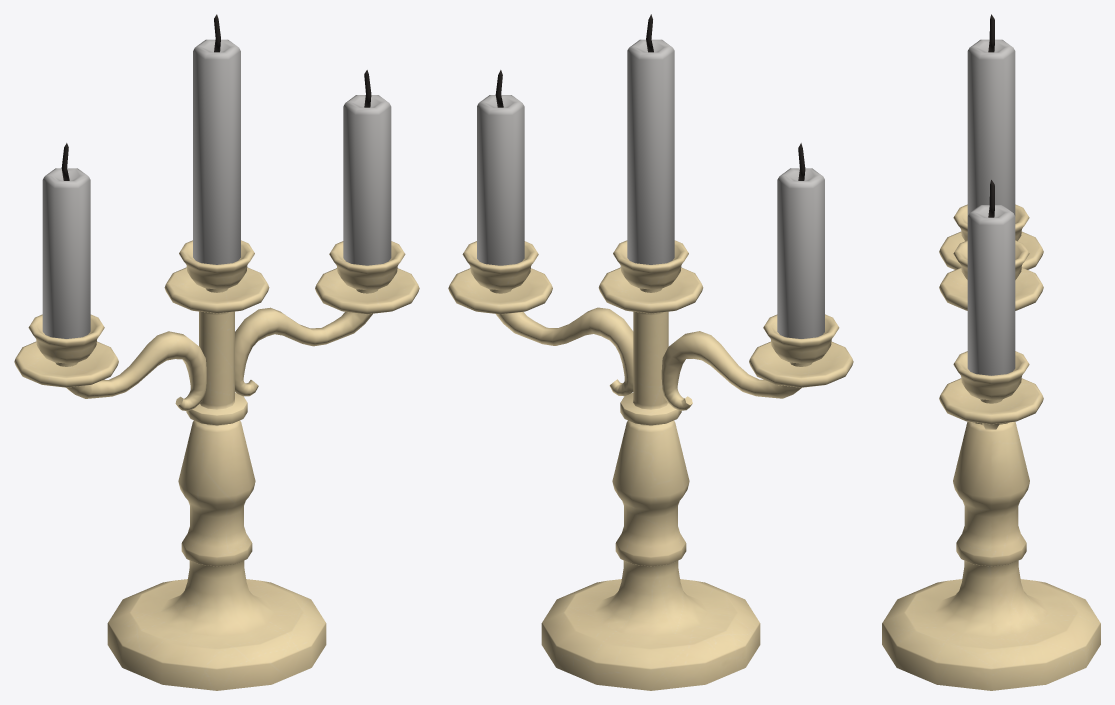
The model's file is CandleStand_C.fbx.
3 renders of one model, left to right at view 1: azimuth 30°, elevation 25°; view 2: azimuth 150°, elevation 25°; view 3: azimuth 270°, elevation 25°, orthographic.
Parts seen in each view (by area): view 1: CandleStand_C; view 2: CandleStand_C; view 3: CandleStand_C.
Part boxes in pixels (<box>): CandleStand_C: <box>14,14,419,690</box>; CandleStand_C: <box>448,14,853,690</box>; CandleStand_C: <box>882,14,1100,690</box>.
Bounding box in the file's own units: 0.4901 × 0.7549 × 0.2375.
